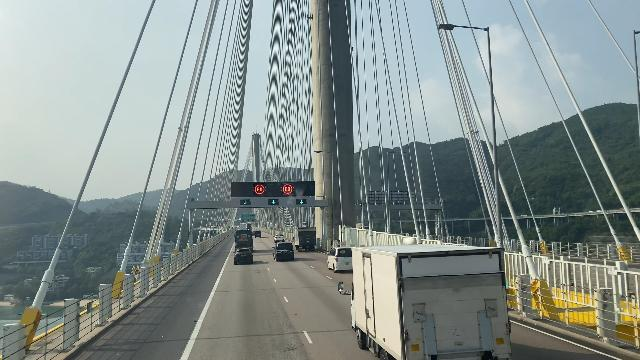car: (233, 247, 254, 265), (273, 233, 285, 243)
truck: (347, 245, 515, 360), (292, 227, 320, 253), (234, 229, 252, 244)
van: (329, 245, 354, 273), (271, 241, 297, 262), (254, 227, 265, 240)
